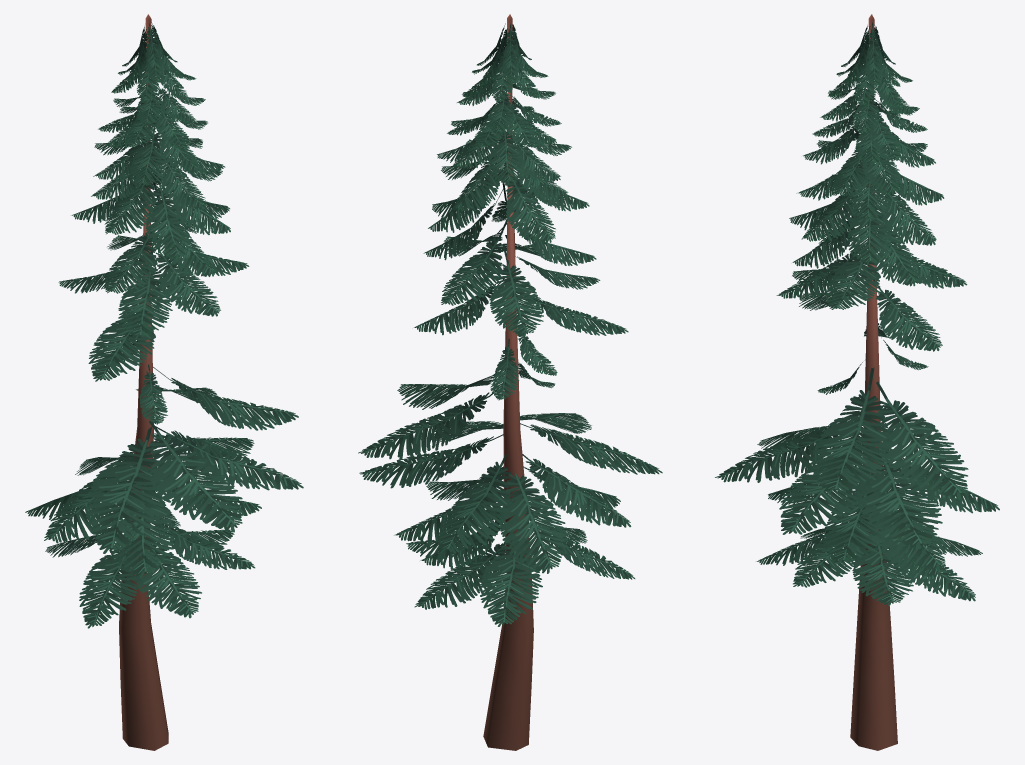
The model's file is Pine_Tree_2C.fbx.
3 views of the same model, side by side, from view 1: azimuth 30°, elevation 25°; view 2: azimuth 150°, elevation 25°; view 3: azimuth 270°, elevation 25° (orthographic).
Parts seen in each view (by area): view 1: Pine_Tree_2C; view 2: Pine_Tree_2C; view 3: Pine_Tree_2C.
Part boxes in pixels (bbox=[...]): Pine_Tree_2C: bbox=[25, 14, 303, 750]; Pine_Tree_2C: bbox=[358, 14, 662, 750]; Pine_Tree_2C: bbox=[715, 14, 999, 750].
Size of the model in its own units: 398 by 1059 by 408.
